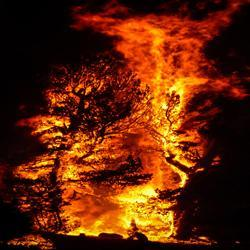fire: (141, 25, 184, 119), (123, 189, 172, 237)
